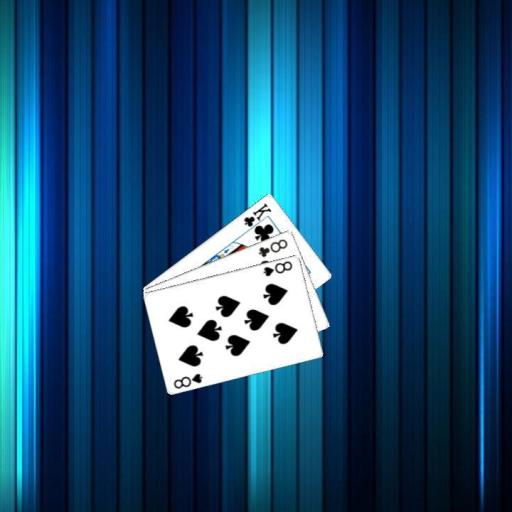8C: (256, 235, 290, 259)
8S: (260, 258, 294, 278), (171, 370, 204, 390)
KC: (241, 200, 273, 234)
